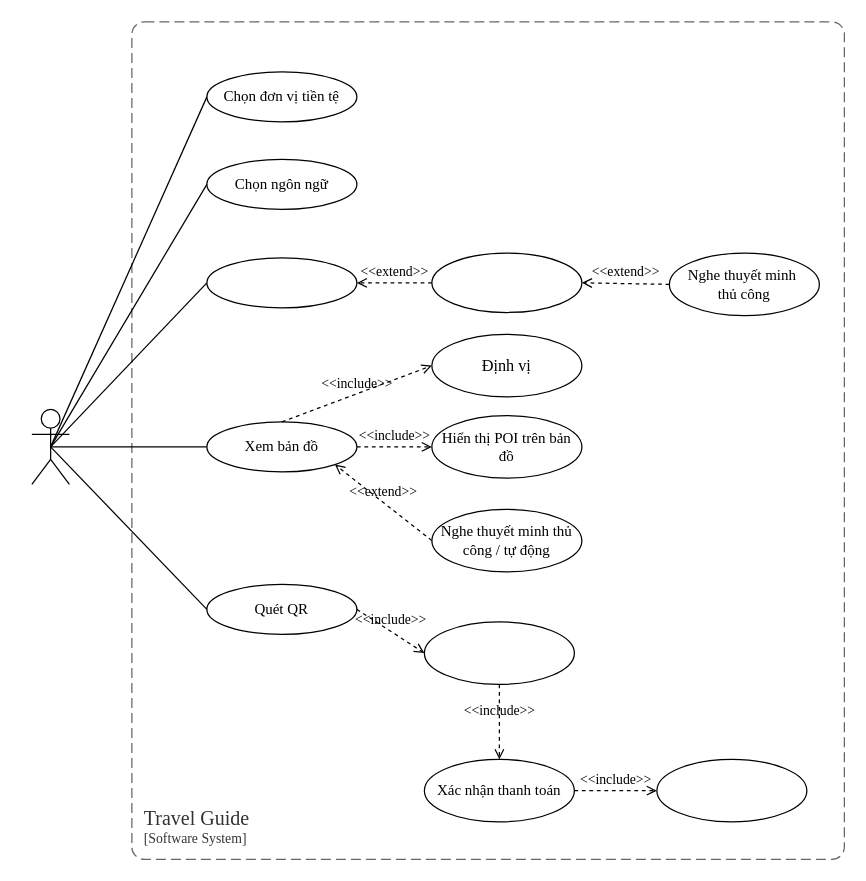
This 866x881 diagram has some shape labels left out. Here are the shapes that lost their labels. From the top down, the centre of each, then its label:
At [281,282]: "Xem danh sách POI".
At [506,282]: "Xem chi tiết POI".
At [50,446]: "Du khách".
At [498,652]: "Thanh toán".
At [731,790]: "Kích hoạt quyền sử dụng".
